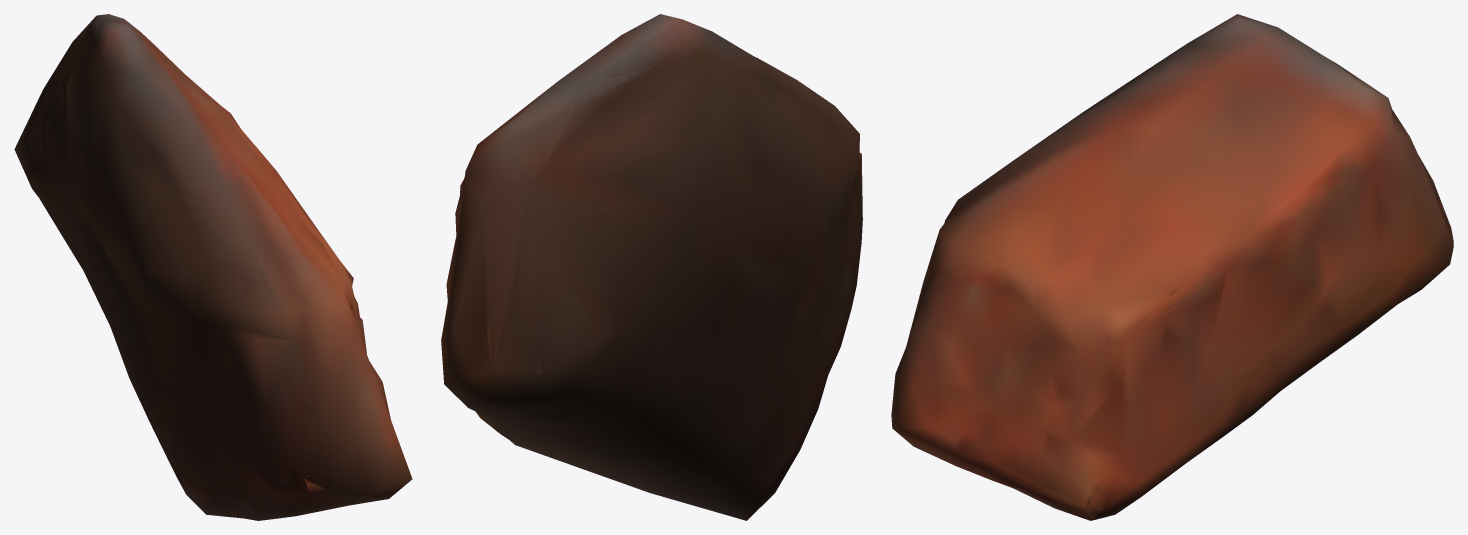
Rendered from copper_ingot.glb.
3 renders of one model, left to right at view 1: azimuth 30°, elevation 25°; view 2: azimuth 150°, elevation 25°; view 3: azimuth 270°, elevation 25°, orthographic. The views are drawn at different scales.
Parts seen in each view (by area): view 1: model; view 2: model; view 3: model.
Part boxes in pixels (x1=…): model: x1=14, y1=14, x2=412, y2=520; model: x1=441, y1=14, x2=862, y2=520; model: x1=891, y1=14, x2=1453, y2=520.
Size of the model in its own units: 0.1947 by 0.3386 by 0.3953.
1 material, 1 textured.
